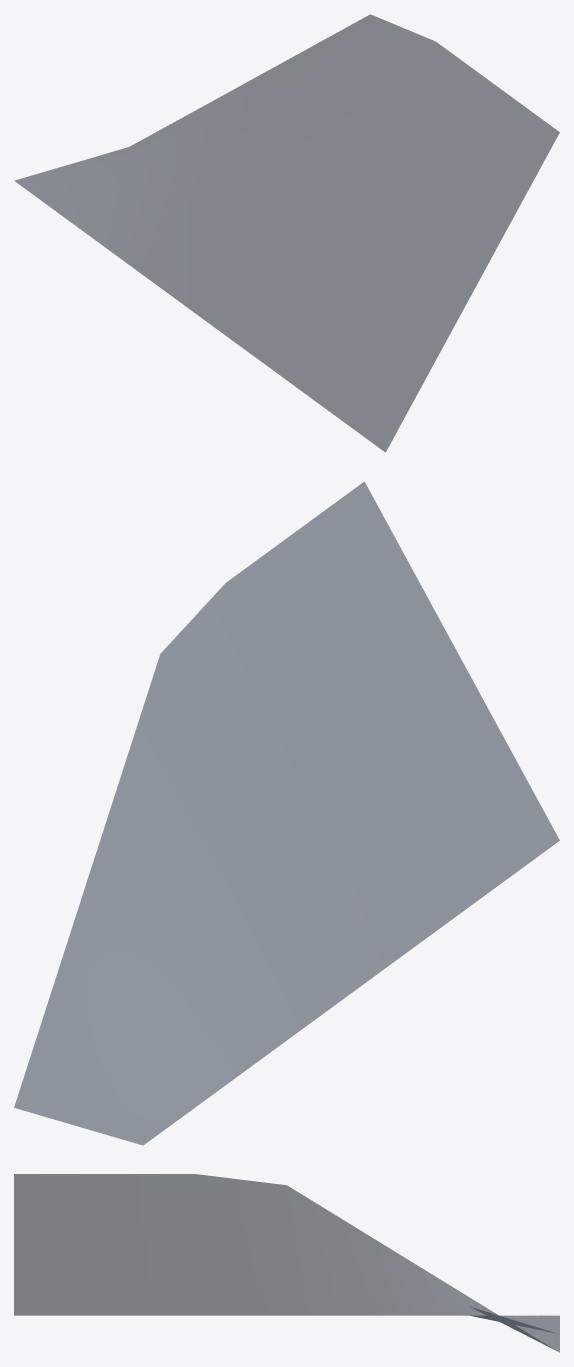
The model's file is GEO_SideWindow_FR.glb.
The picture shows the model from 3 angles, top to bottom: view 1: azimuth 30°, elevation 25°; view 2: azimuth 150°, elevation 25°; view 3: azimuth 270°, elevation 25°; orthographic projection. The views are drawn at different scales.
Visible parts, largest first — view 1: GEO_SideWindow_FR; view 2: GEO_SideWindow_FR; view 3: GEO_SideWindow_FR.
Part boxes in pixels (bbox=[...]): GEO_SideWindow_FR: bbox=[14, 14, 559, 452]; GEO_SideWindow_FR: bbox=[14, 481, 559, 1145]; GEO_SideWindow_FR: bbox=[14, 1174, 559, 1352].
Bounding box in the file's own units: 0.325 × 0.495 × 1.2.
